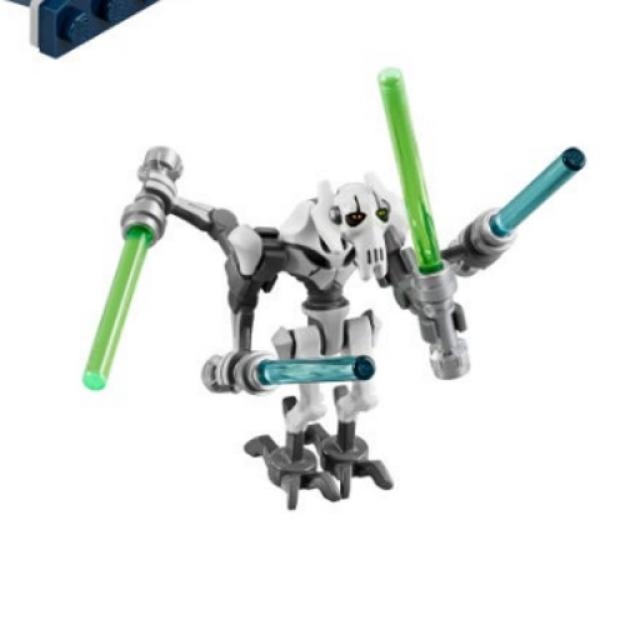Lego-Minifigures: (64, 100, 578, 528)
